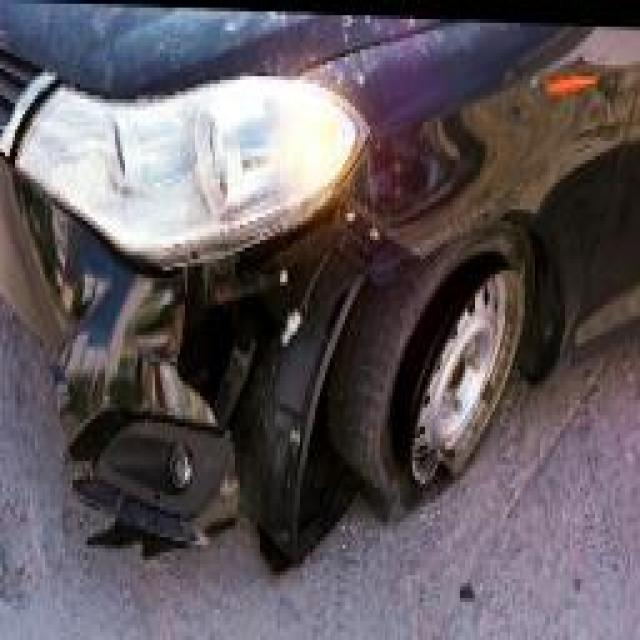Bumper: (0, 172, 409, 574)
